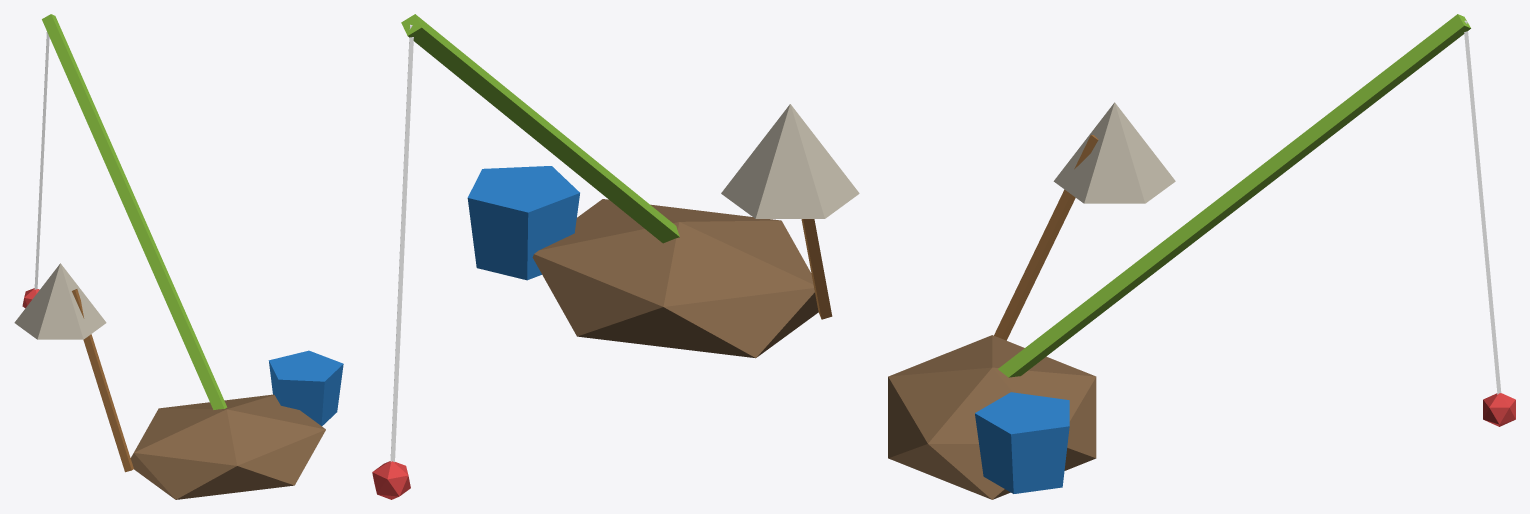
Rendered from pescaria.glb.
3 views of the same model, side by side, from view 1: azimuth 30°, elevation 25°; view 2: azimuth 150°, elevation 25°; view 3: azimuth 270°, elevation 25° (orthographic). The views are drawn at different scales.
Parts seen in each view (by area): view 1: corpo; view 2: corpo; view 3: corpo.
Part boxes in pixels (x1=…): corpo: x1=14, y1=14, x2=343, y2=499; corpo: x1=372, y1=14, x2=859, y2=499; corpo: x1=888, y1=14, x2=1515, y2=499.
Size of the model in its own units: 0.4877 by 0.5721 by 0.7178.
